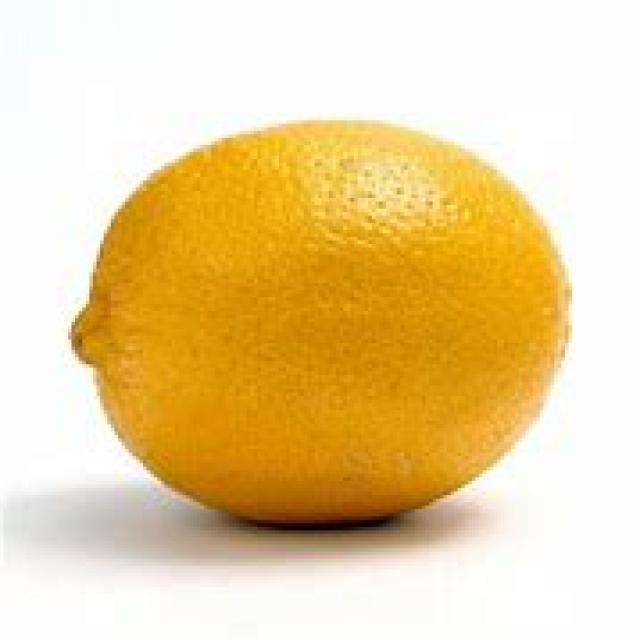Lemon: (70, 117, 576, 529)
